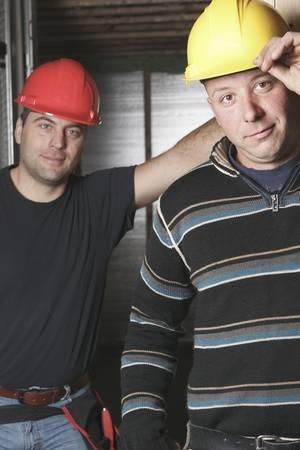Helmet: (184, 0, 300, 156), (19, 59, 101, 167)
NoVest: (158, 162, 300, 433), (0, 171, 108, 390)
